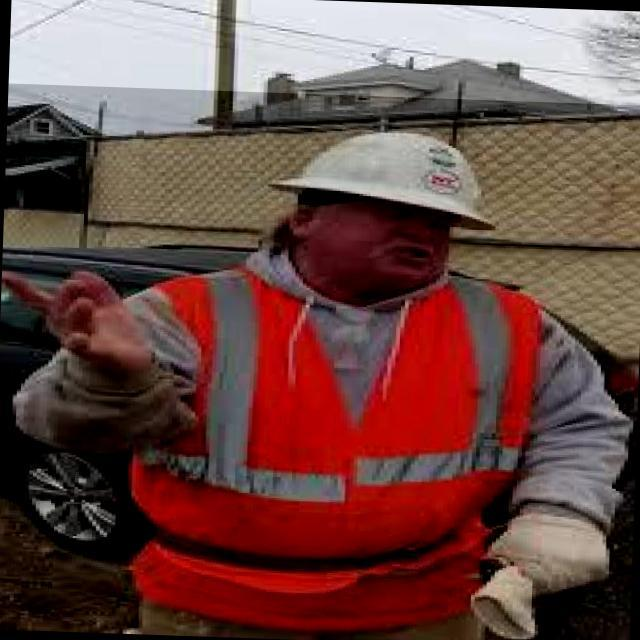Gloves: (488, 488, 616, 598)
Helmet: (269, 125, 500, 231)
Person: (3, 104, 640, 640)
Safety Vest: (126, 263, 541, 601)
bare-arms: (1, 228, 154, 386)
